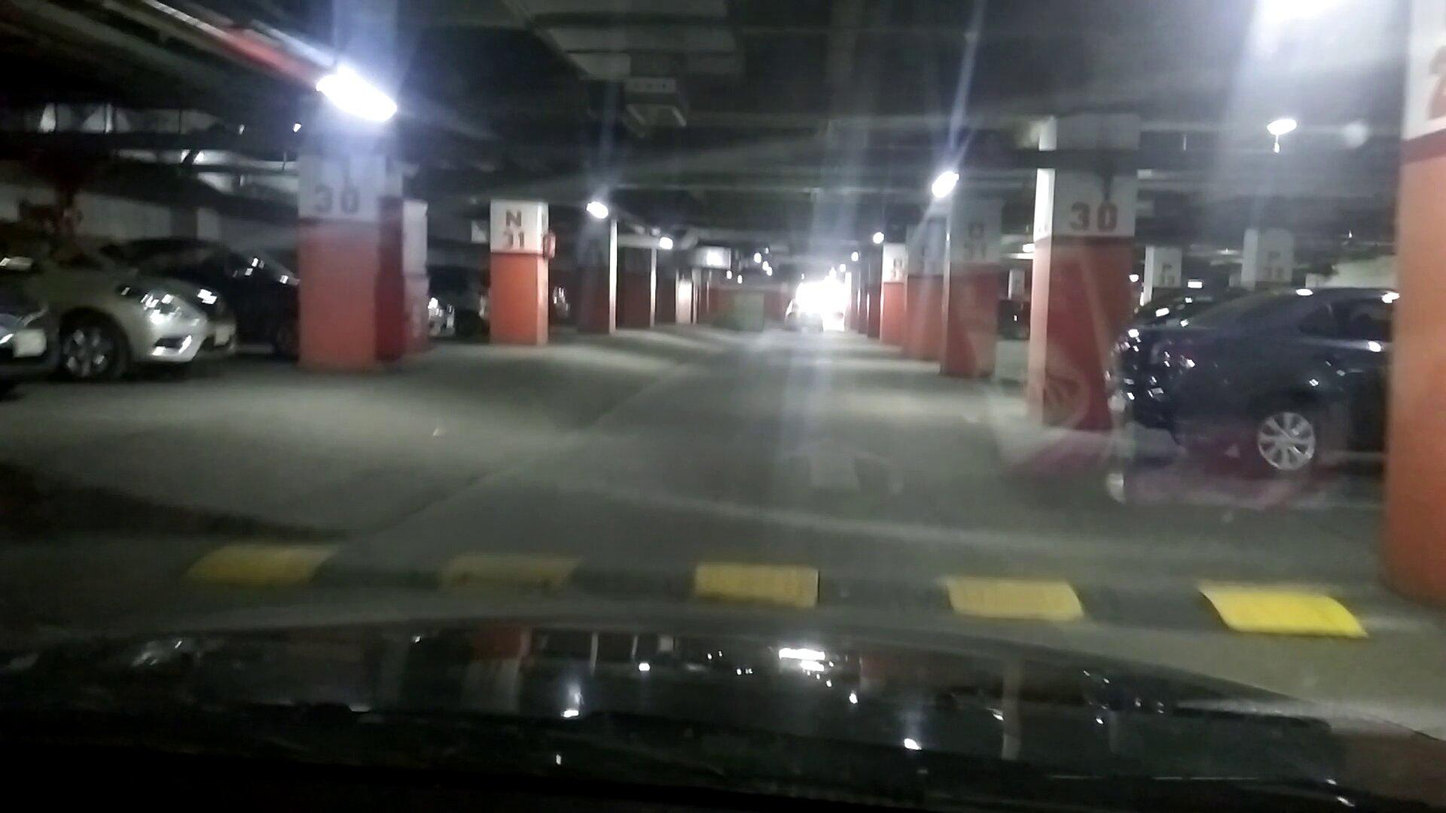Bump: (209, 531, 1361, 642)
